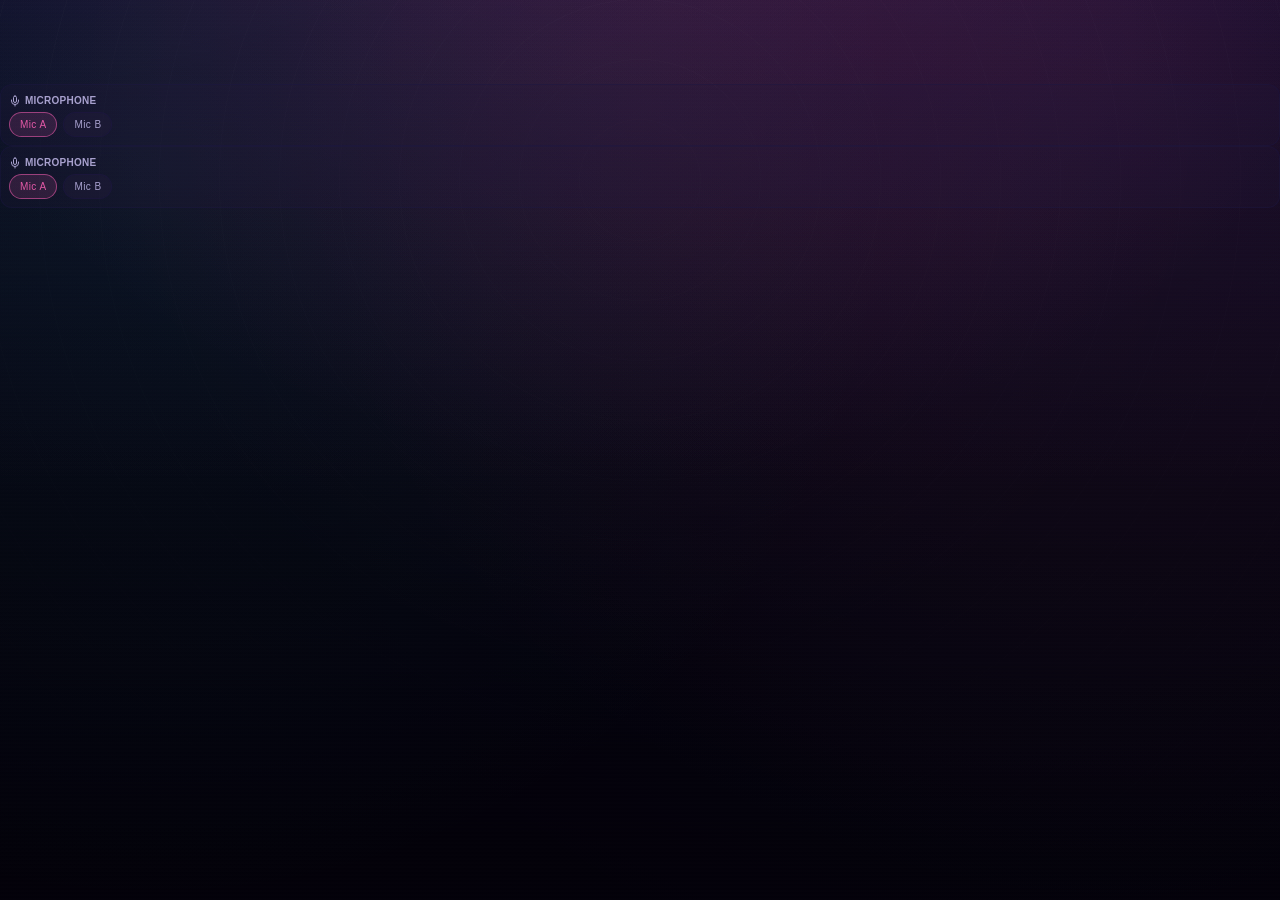
Test: BuilderDeviceOptions (builder Options + chat Settings) › keeps two mounted copies in sync after a switch
Click the 1st button "Mic B" at (88, 124), box [64,112,112,137]
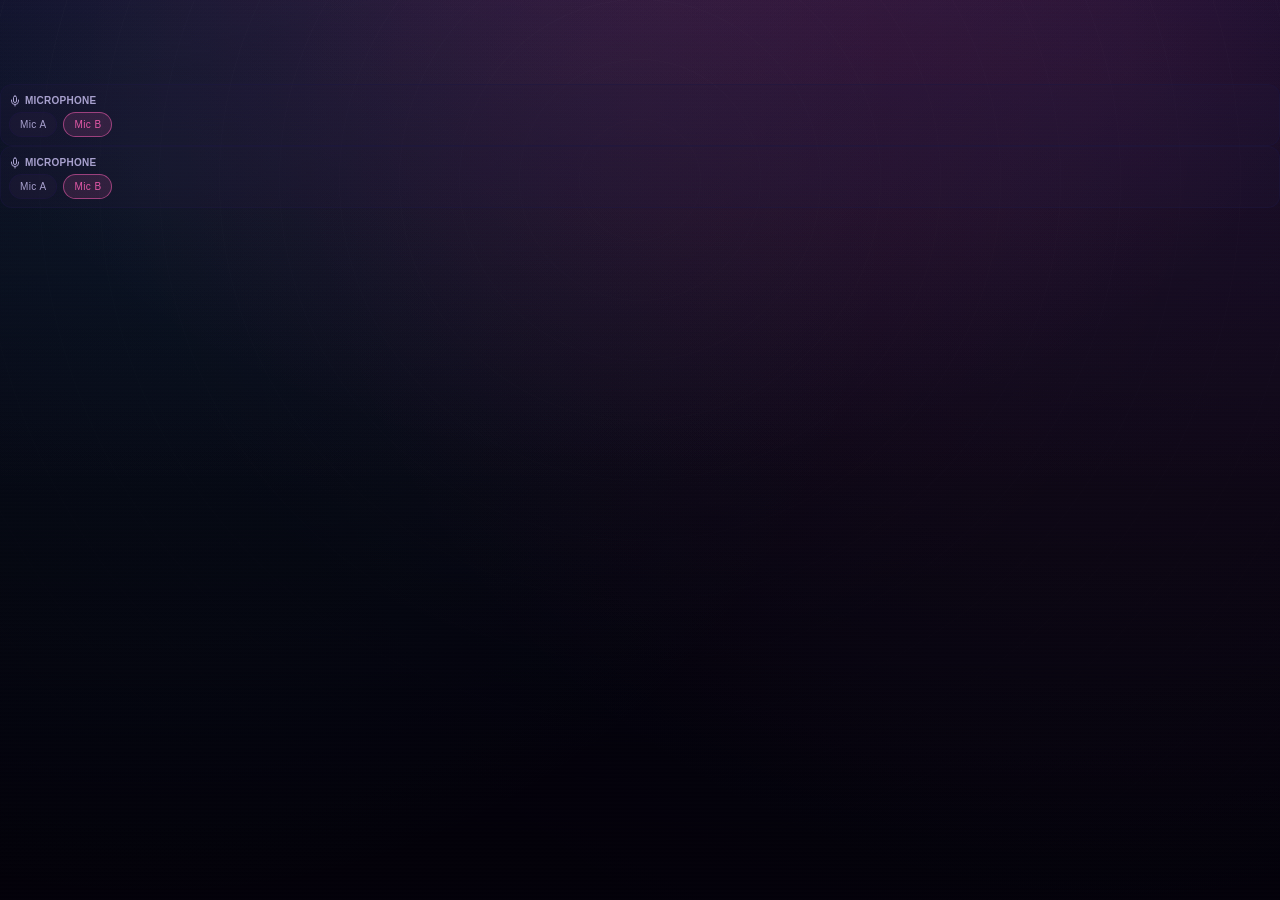
Expected: the 2nd button "Mic B" is pressed, [64,174,112,199]
